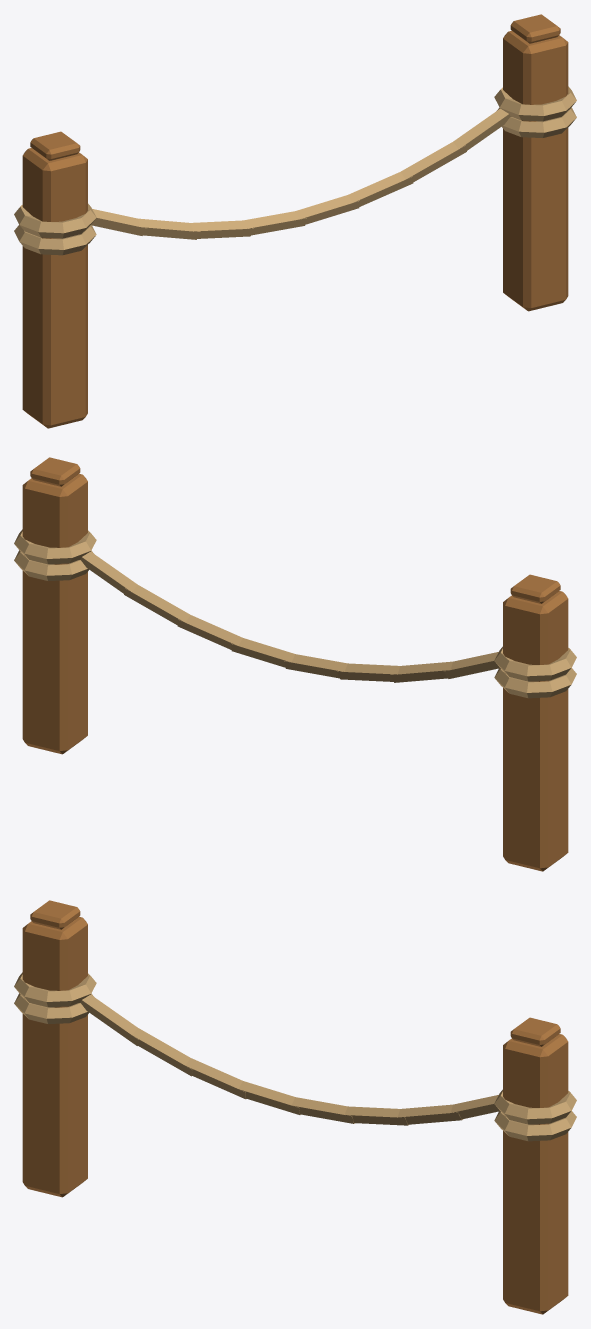
File: rope_posts.glb
3 views of the same model, one above another, from view 1: azimuth 30°, elevation 25°; view 2: azimuth 150°, elevation 25°; view 3: azimuth 330°, elevation 25° (orthographic).
Parts seen in each view (by area): view 1: rope_posts; view 2: rope_posts; view 3: rope_posts.
Boxes of the visible parts, x1,y1,x2,y2 form: rope_posts: (14,14,576,428); rope_posts: (14,457,576,871); rope_posts: (14,900,576,1314).
Bounding box in the file's own units: 2.07 × 0.99 × 0.2568.
